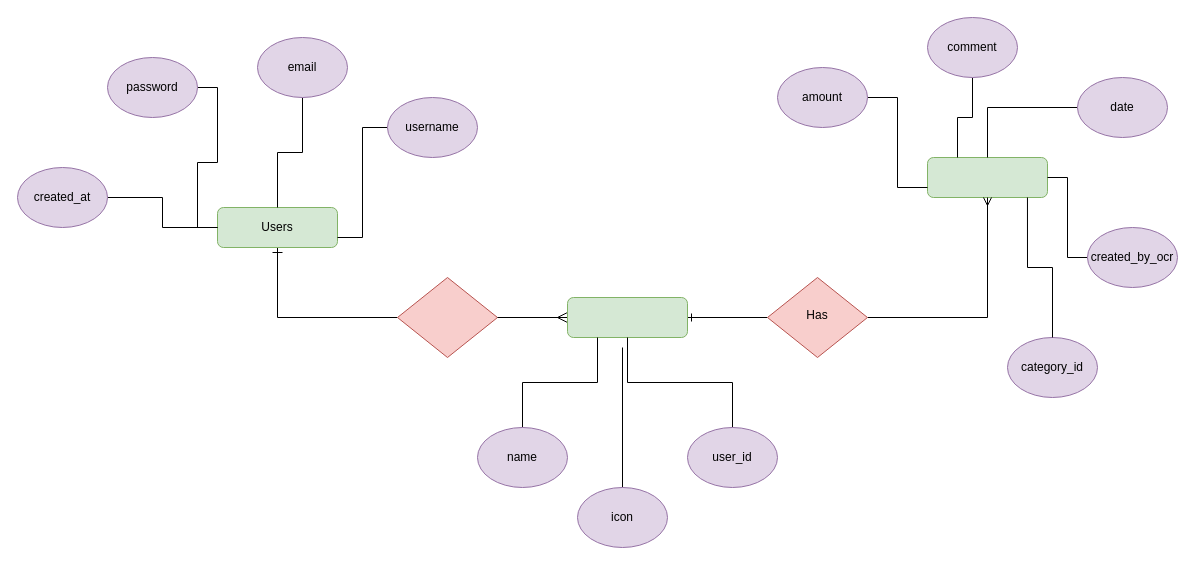
Some shapes in this 1195 by 565 pixel diagram are drawn without their labels. The centre of each missing label's shape, as x and y in pixels:
Categories: point (627, 317)
Create: point (447, 317)
Transactions: point (987, 177)
